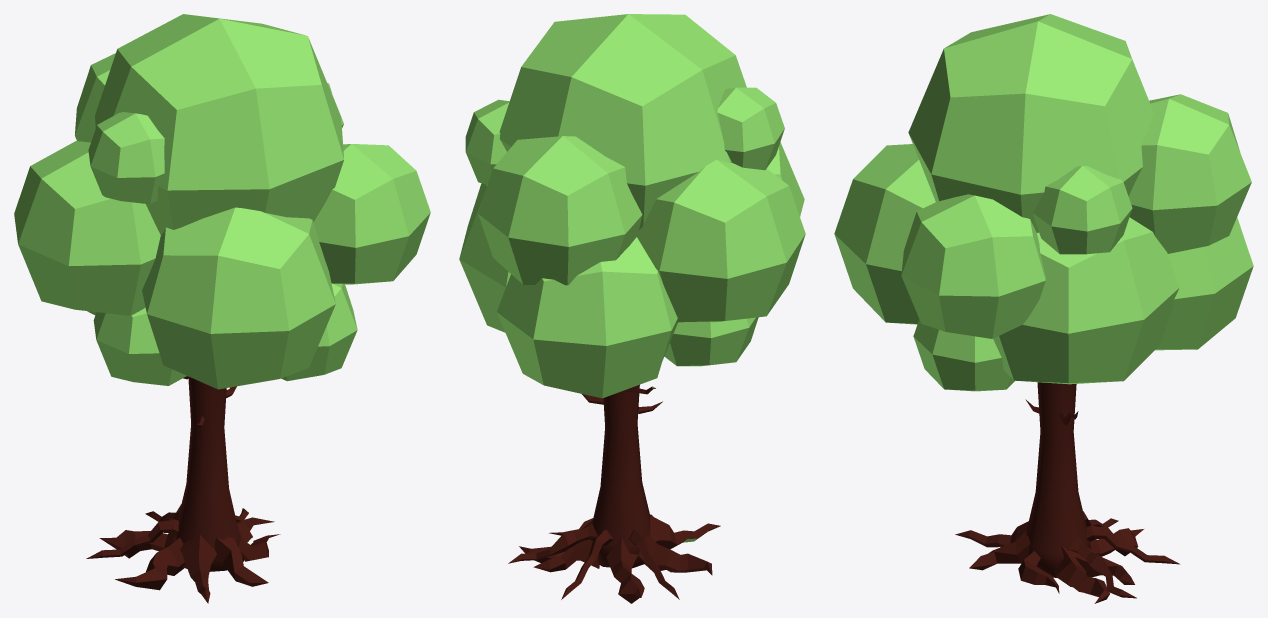
Rendered from TreeApple (3).fbx.
3 views of the same model, side by side, from view 1: azimuth 30°, elevation 25°; view 2: azimuth 150°, elevation 25°; view 3: azimuth 270°, elevation 25° (orthographic). The views are drawn at different scales.
Parts seen in each view (by area): view 1: TreeApple; view 2: TreeApple; view 3: TreeApple.
Part boxes in pixels (bbox=[...]): TreeApple: bbox=[14, 14, 430, 603]; TreeApple: bbox=[459, 14, 805, 603]; TreeApple: bbox=[834, 14, 1253, 603].
Size of the model in its own units: 179 by 277 by 189.
